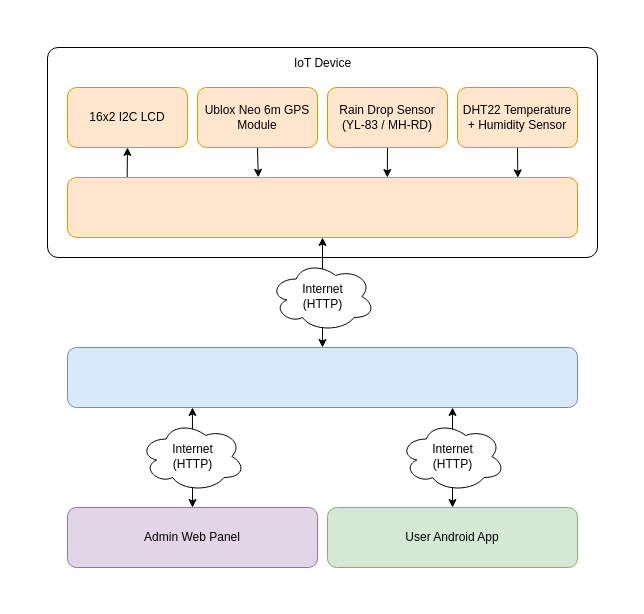
The diagram is 644 pixels wide and 614 high, and some of its shapes have lost their labels. Here are the shapes that lost their labels. From the top down, the centre of each, then its label:
At point (322, 207): "NodeMCU ESP8266 WiFi Enabled Microprocessor Board (Arduino IDE Compatible)".
At point (322, 377): "REST API Web Server".
